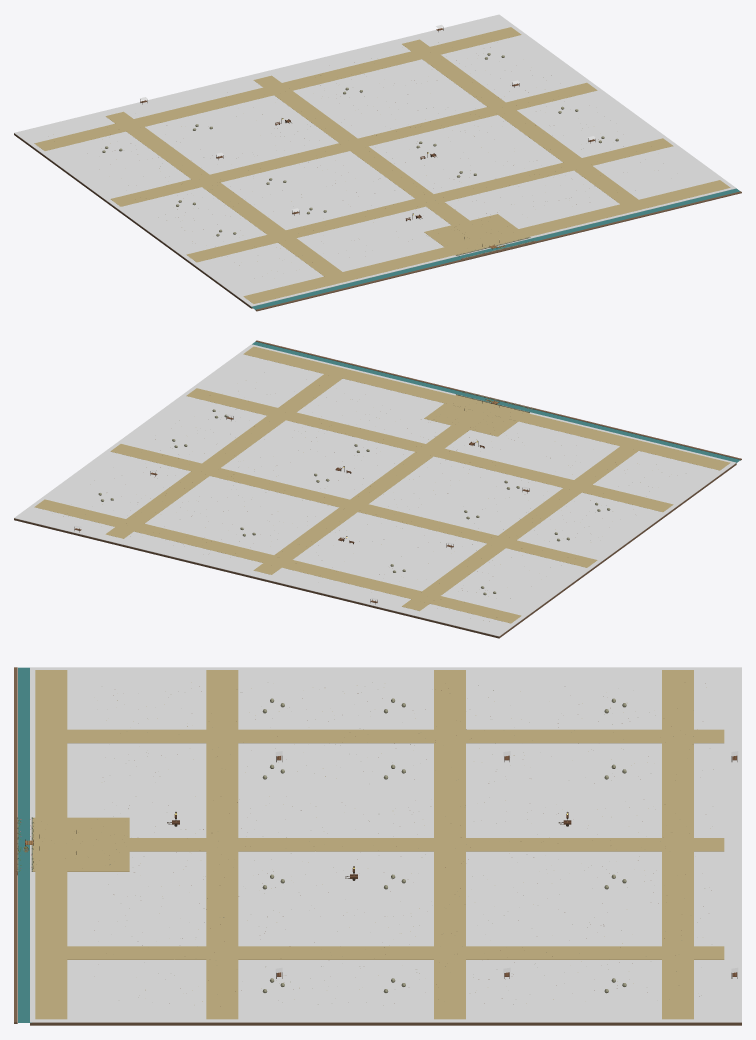
The model's file is nakhon-wilds.glb.
The picture shows the model from 3 angles, top to bottom: view 1: azimuth 30°, elevation 25°; view 2: azimuth 150°, elevation 25°; view 3: azimuth 270°, elevation 25°; orthographic projection. The views are drawn at different scales.
Visible parts, largest first — view 1: Expanded ground · meadow, Regional avenues · sand, River extension · water, Far bank extension · earth, Terrain · sand, Expanded ground · earth; view 2: Expanded ground · meadow, Regional avenues · sand, Expanded ground · earth, River extension · water, Terrain · sand, Far bank extension · earth; view 3: Expanded ground · meadow, Regional avenues · sand, River extension · water, Expanded ground · earth, Terrain · sand, Far bank extension · earth, Forest boulders · stone, River · water.
Boxes of the visible parts, bbox=[...] form: Expanded ground · meadow: bbox=[14, 14, 736, 306]; Regional avenues · sand: bbox=[34, 27, 730, 303]; River extension · water: bbox=[251, 188, 739, 309]; Far bank extension · earth: bbox=[255, 191, 741, 311]; Terrain · sand: bbox=[424, 214, 528, 255]; Expanded ground · earth: bbox=[14, 133, 252, 308]; Expanded ground · meadow: bbox=[14, 344, 736, 636]; Regional avenues · sand: bbox=[34, 346, 730, 623]; Expanded ground · earth: bbox=[14, 463, 736, 638]; River extension · water: bbox=[252, 341, 740, 463]; Terrain · sand: bbox=[424, 395, 529, 436]; Far bank extension · earth: bbox=[255, 340, 741, 460]; Expanded ground · meadow: bbox=[30, 667, 741, 1022]; Regional avenues · sand: bbox=[35, 670, 724, 1019]; River extension · water: bbox=[18, 667, 31, 1022]; Expanded ground · earth: bbox=[30, 1022, 741, 1025]; Terrain · sand: bbox=[33, 817, 129, 871]; Far bank extension · earth: bbox=[14, 667, 17, 1023]; Forest boulders · stone: bbox=[262, 698, 626, 993]; River · water: bbox=[18, 818, 29, 872].
Size of the model in its own units: 236 by 3.9 by 204.
